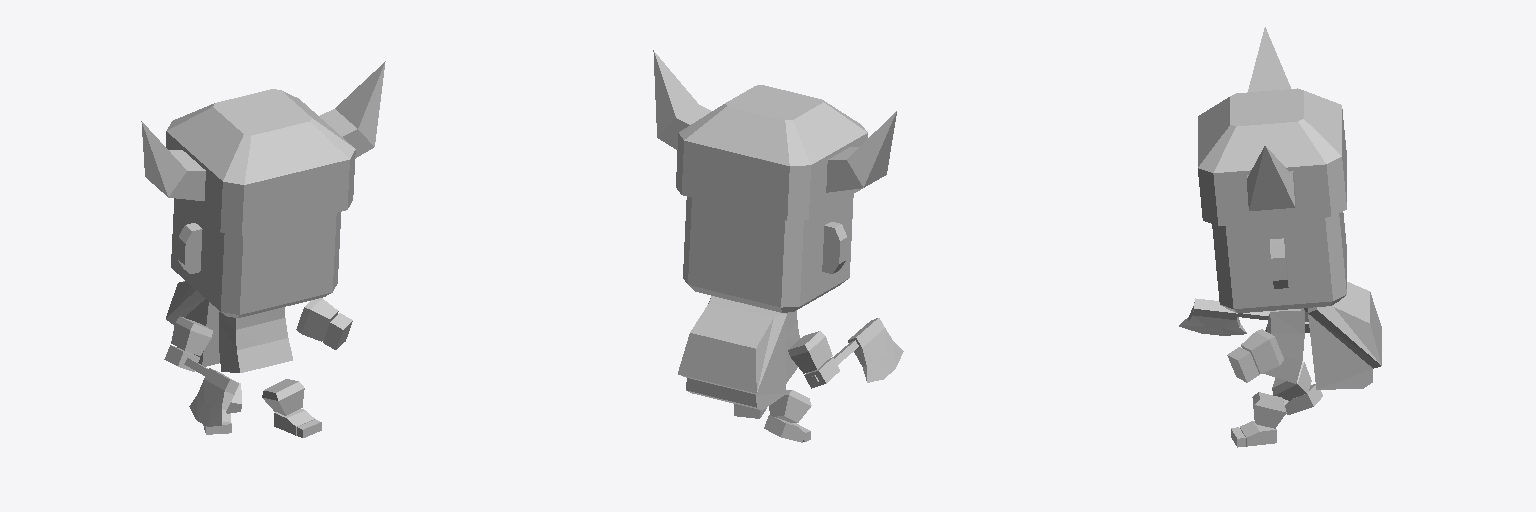
Rendered from mini_knight_000030.obj.
3 views of the same model, side by side, from view 1: azimuth 30°, elevation 25°; view 2: azimuth 150°, elevation 25°; view 3: azimuth 270°, elevation 25° (orthographic).
Parts seen in each view (by area): view 1: cap_Object01_Material__3, Mesh_objheadusOBJexport_Material, back_Object03_Material__3, axe_Object02_Material__3; view 2: cap_Object01_Material__3, Mesh_objheadusOBJexport_Material, back_Object03_Material__3, axe_Object02_Material__3; view 3: cap_Object01_Material__3, Mesh_objheadusOBJexport_Material, back_Object03_Material__3, axe_Object02_Material__3.
Part boxes in pixels (x1,y1,x2,y2): cap_Object01_Material__3: (141, 61, 385, 235); Mesh_objheadusOBJexport_Material: (164, 198, 352, 437); back_Object03_Material__3: (166, 281, 219, 366); axe_Object02_Material__3: (184, 358, 238, 426); cap_Object01_Material__3: (653, 50, 896, 220); Mesh_objheadusOBJexport_Material: (683, 194, 853, 442); back_Object03_Material__3: (678, 296, 786, 410); axe_Object02_Material__3: (810, 318, 903, 383); cap_Object01_Material__3: (1198, 27, 1346, 225); Mesh_objheadusOBJexport_Material: (1212, 212, 1346, 447); back_Object03_Material__3: (1308, 282, 1381, 389); axe_Object02_Material__3: (1179, 298, 1269, 335).
Size of the model in its own units: 1.94 by 2.59 by 1.4.